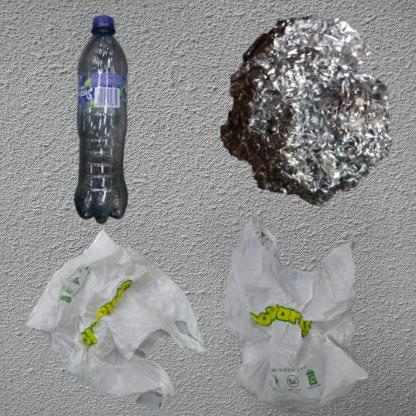aluminio: (213, 10, 396, 213)
bolsa: (10, 213, 223, 416), (213, 213, 389, 416)
botella: (10, 10, 242, 290)
